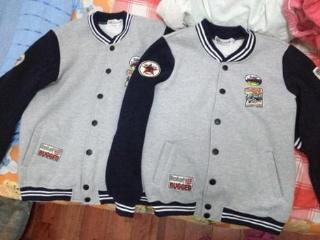long sleeve top: (105, 18, 319, 236), (0, 10, 190, 205)
